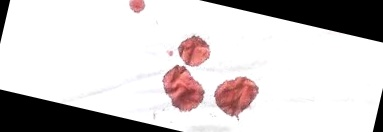blood: (157, 61, 210, 116), (210, 72, 257, 122), (174, 34, 213, 69), (120, 0, 152, 16)
